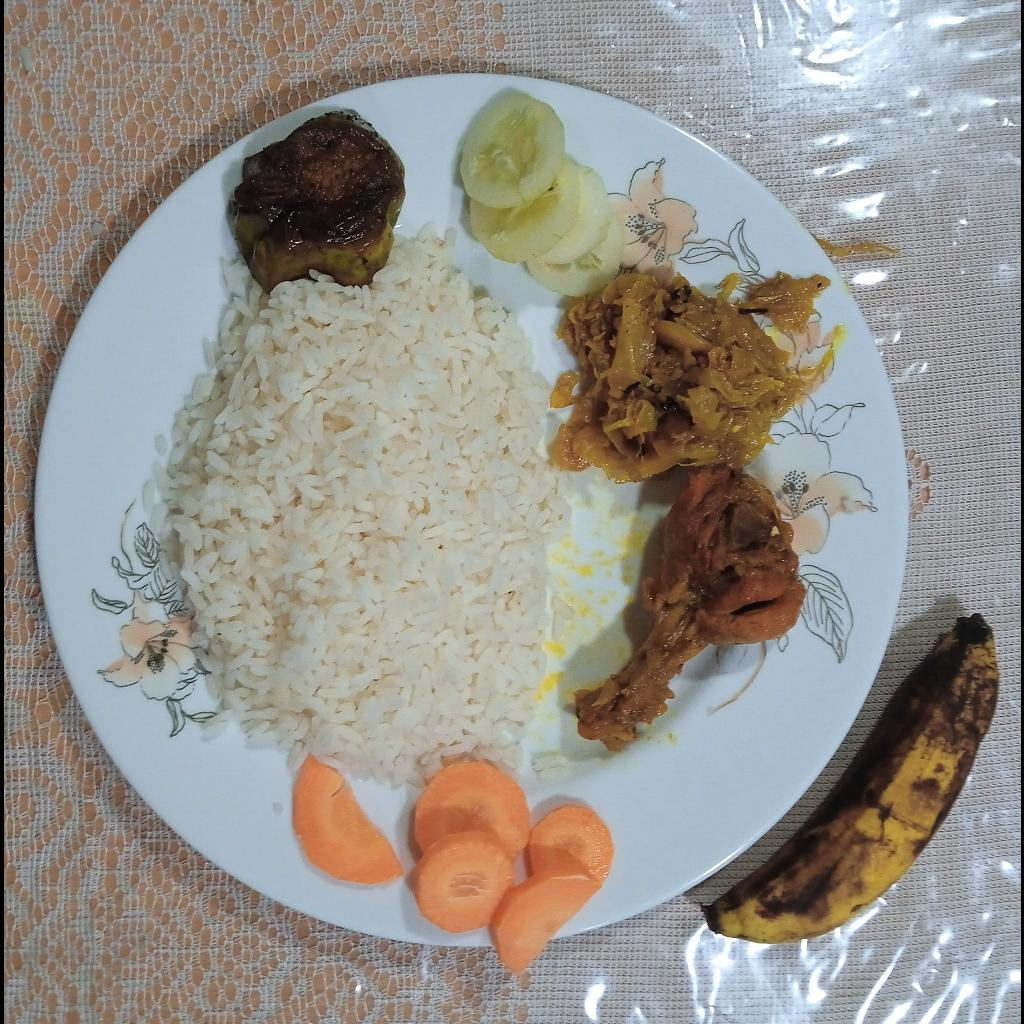banana: (704, 617, 997, 942)
begun-vaji: (227, 112, 404, 287)
carrot: (293, 754, 615, 977)
chicken: (574, 468, 807, 754)
cucumber: (459, 96, 624, 296)
rice: (141, 221, 573, 784)
vegetable: (547, 272, 829, 481)
